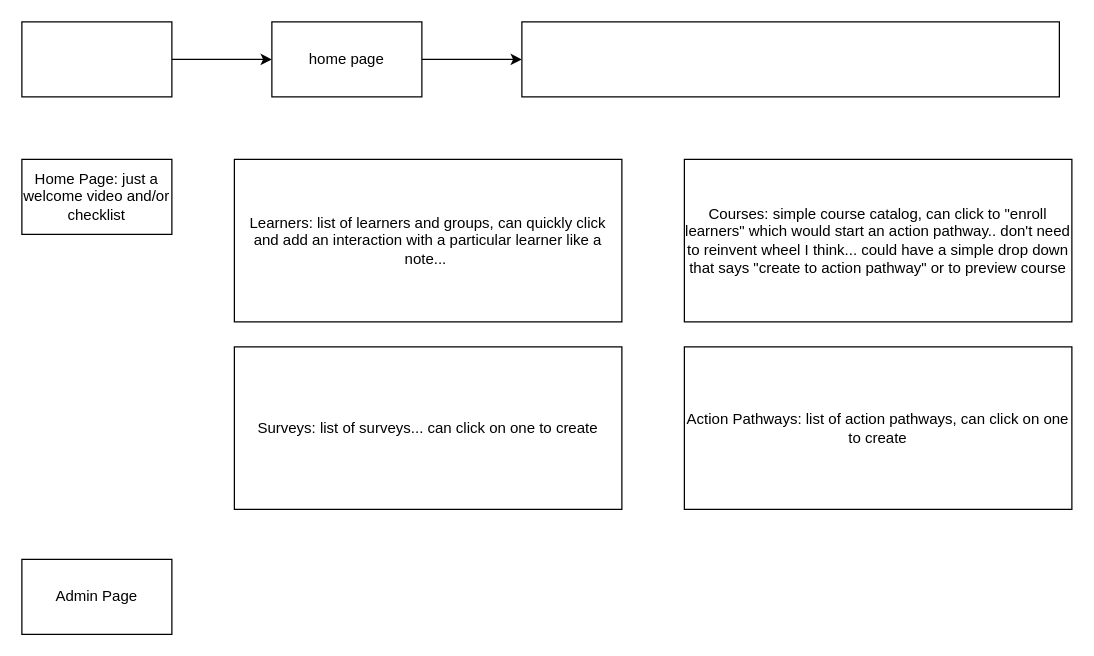
Image size: 1094x656. Some labels were removed from this diagram. The shapes that lost their labels are listed below. From the top down, each one's box as (x1, y1, x2, y2) in pixels, then its label:
(21, 21, 172, 97): user login/registration
(521, 21, 1059, 97): pages: Home, Learners, Courses, Surveys, Action Pathways,
